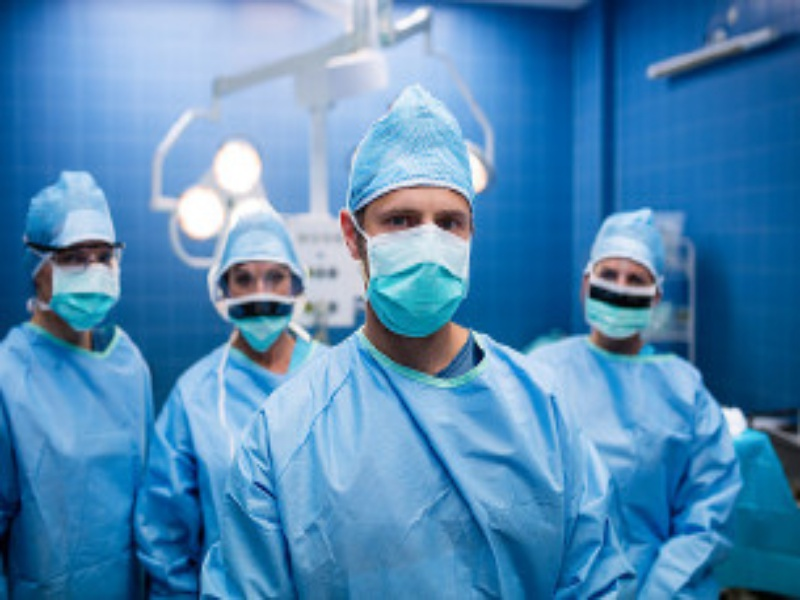mask: (345, 132, 481, 332), (25, 181, 129, 336), (200, 220, 309, 347), (582, 227, 666, 340)
